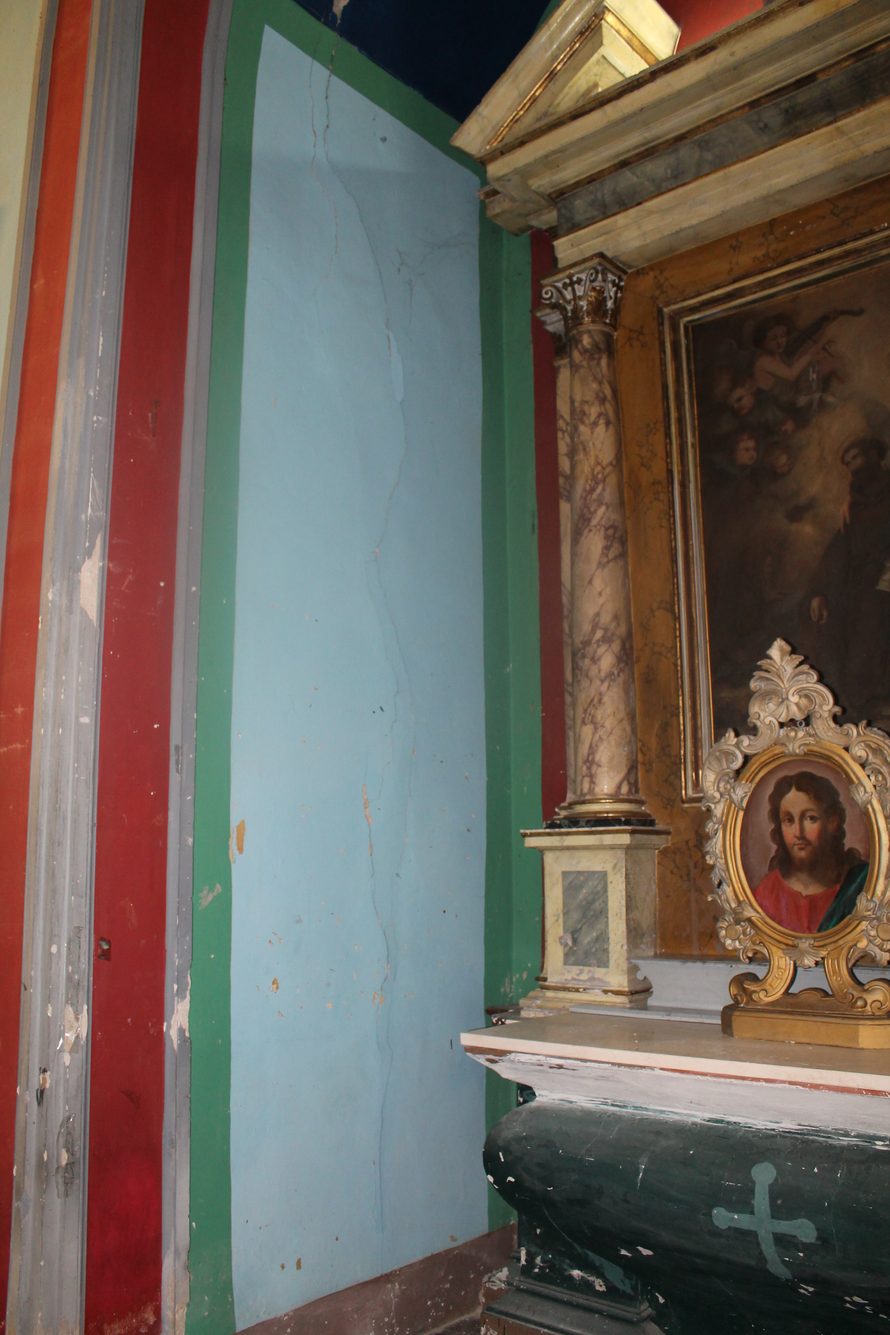Crack: (233, 5, 470, 1262)
